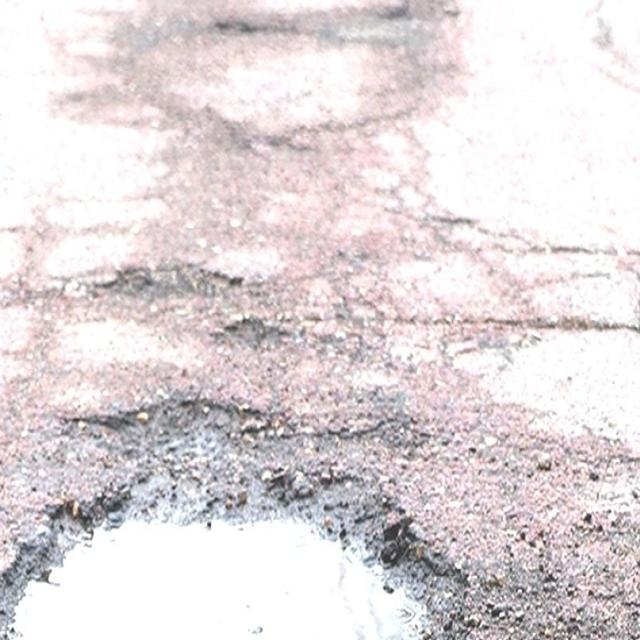road-pothole: (1, 469, 468, 634)
